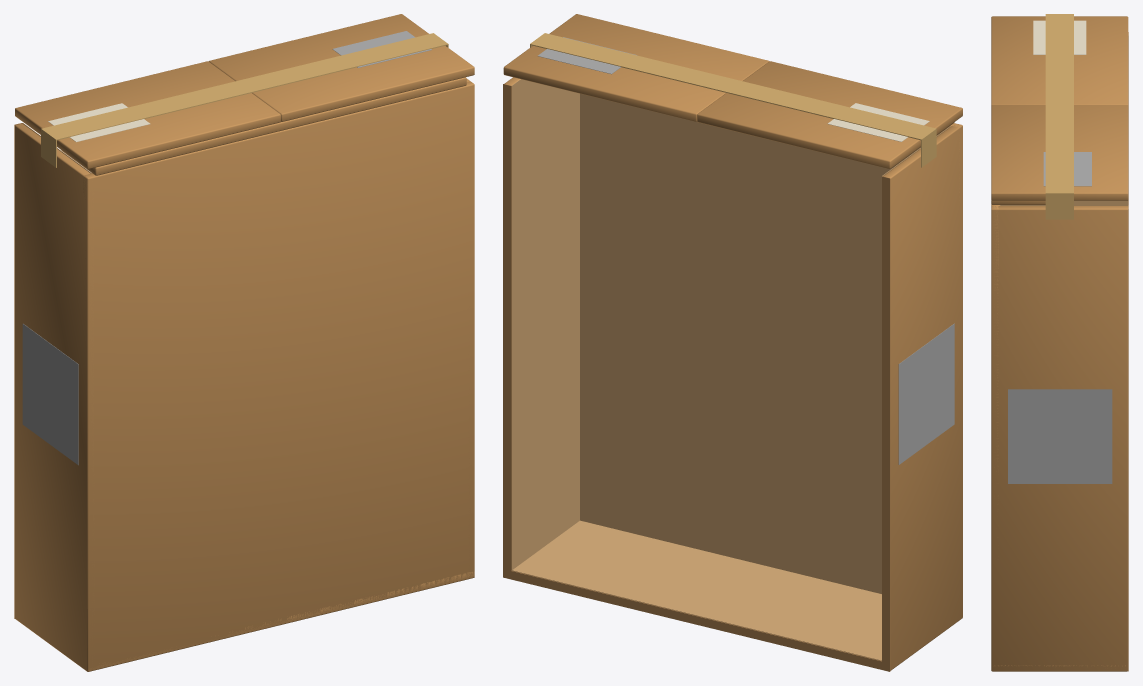
3 renders of one model, left to right at view 1: azimuth 30°, elevation 25°; view 2: azimuth 150°, elevation 25°; view 3: azimuth 270°, elevation 25°, orthographic. The views are drawn at different scales.
Visible parts, largest first — view 1: box_4x5, FlapR, FlapL, Tape, FlapB; view 2: box_4x5, FlapR, FlapL, Tape; view 3: box_4x5, FlapL, FlapR, Tape, FlapB.
Boxes of the visible parts, x1=… form: box_4x5: x1=14, y1=78, x2=474, y2=671; FlapR: x1=15, y1=61, x2=280, y2=169; FlapL: x1=209, y1=14, x2=474, y2=121; Tape: x1=41, y1=33, x2=448, y2=167; FlapB: x1=61, y1=77, x2=466, y2=175; box_4x5: x1=503, y1=77, x2=962, y2=671; FlapR: x1=697, y1=61, x2=962, y2=168; FlapL: x1=503, y1=14, x2=769, y2=121; Tape: x1=530, y1=33, x2=936, y2=167; box_4x5: x1=991, y1=32, x2=1128, y2=671; FlapL: x1=991, y1=105, x2=1128, y2=200; FlapR: x1=991, y1=16, x2=1128, y2=105; Tape: x1=1045, y1=14, x2=1073, y2=219; FlapB: x1=991, y1=200, x2=1045, y2=204.
Size of the model in its own units: 1.06 by 1.32 by 0.3428.
